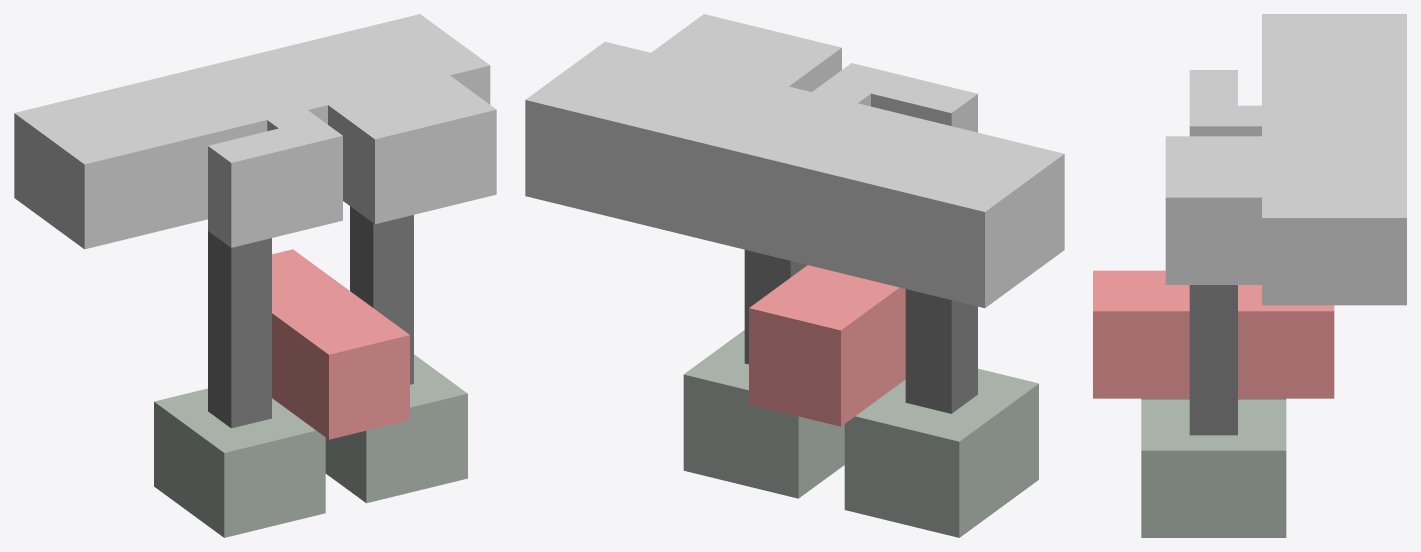
File: board.glb
3 renders of one model, left to right at view 1: azimuth 30°, elevation 25°; view 2: azimuth 150°, elevation 25°; view 3: azimuth 270°, elevation 25°, orthographic. The views are drawn at different scales.
Visible parts, largest first — view 1: Copper_Net3_Contour0 (×3), Copper_Net2_Contour0 (×3), Copper_Net1_Contour0; view 2: Copper_Net3_Contour0 (×3), Copper_Net2_Contour0 (×3), Copper_Net1_Contour0; view 3: Copper_Net3_Contour0, Copper_Net2_Contour0 (×3), Copper_Net1_Contour0.
Part boxes in pixels (box(x1,y1,x2,y2)): Copper_Net3_Contour0 (×3): box(14, 14, 490, 537); Copper_Net2_Contour0 (×3): box(325, 75, 496, 503); Copper_Net1_Contour0: box(272, 249, 409, 439); Copper_Net3_Contour0 (×3): box(525, 41, 1064, 537); Copper_Net2_Contour0 (×3): box(651, 14, 844, 498); Copper_Net1_Contour0: box(749, 265, 905, 426); Copper_Net3_Contour0: box(1189, 14, 1406, 305); Copper_Net2_Contour0 (×3): box(1141, 136, 1286, 537); Copper_Net1_Contour0: box(1093, 270, 1334, 398).
Bounding box in the file's own units: 2e-06 × 1.65e-06 × 1.3e-06.
